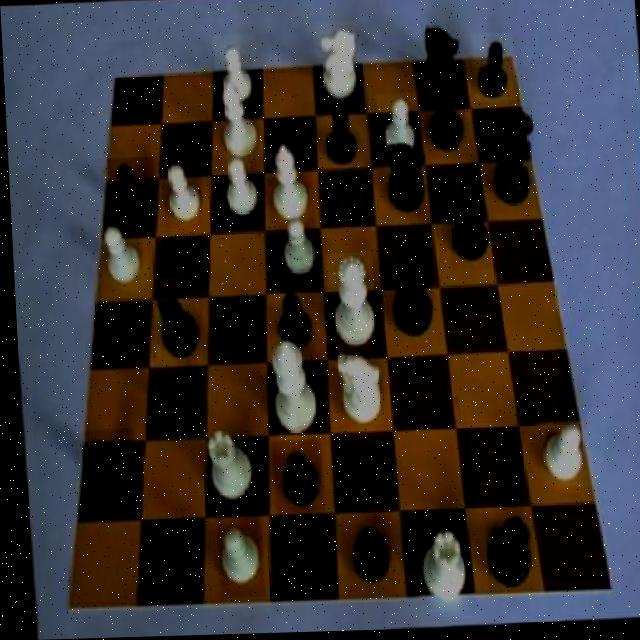bishop: (149, 277, 200, 371), (443, 181, 494, 272)
black-bishop: (381, 236, 441, 348)
black-king: (375, 135, 430, 229), (414, 22, 465, 113)
black-knight: (336, 516, 389, 598), (79, 428, 133, 506), (147, 359, 198, 440), (268, 441, 320, 519), (265, 282, 318, 357), (107, 157, 157, 234), (470, 36, 516, 106), (316, 106, 361, 177)
black-pawn: (484, 111, 538, 217)
black-queen: (477, 506, 534, 600), (421, 74, 467, 164)
black-rook: (263, 131, 312, 225), (211, 79, 261, 171)
white-bishop: (260, 341, 315, 445)
white-king: (327, 347, 383, 435), (313, 23, 363, 110)
white-knight: (96, 221, 148, 298), (533, 420, 587, 493), (211, 518, 258, 600), (213, 34, 259, 115), (375, 95, 422, 169), (215, 154, 259, 224), (159, 159, 202, 230), (273, 217, 316, 281)
white-pawn: (322, 253, 375, 355)
white-queen: (407, 530, 470, 612), (201, 421, 252, 516)
